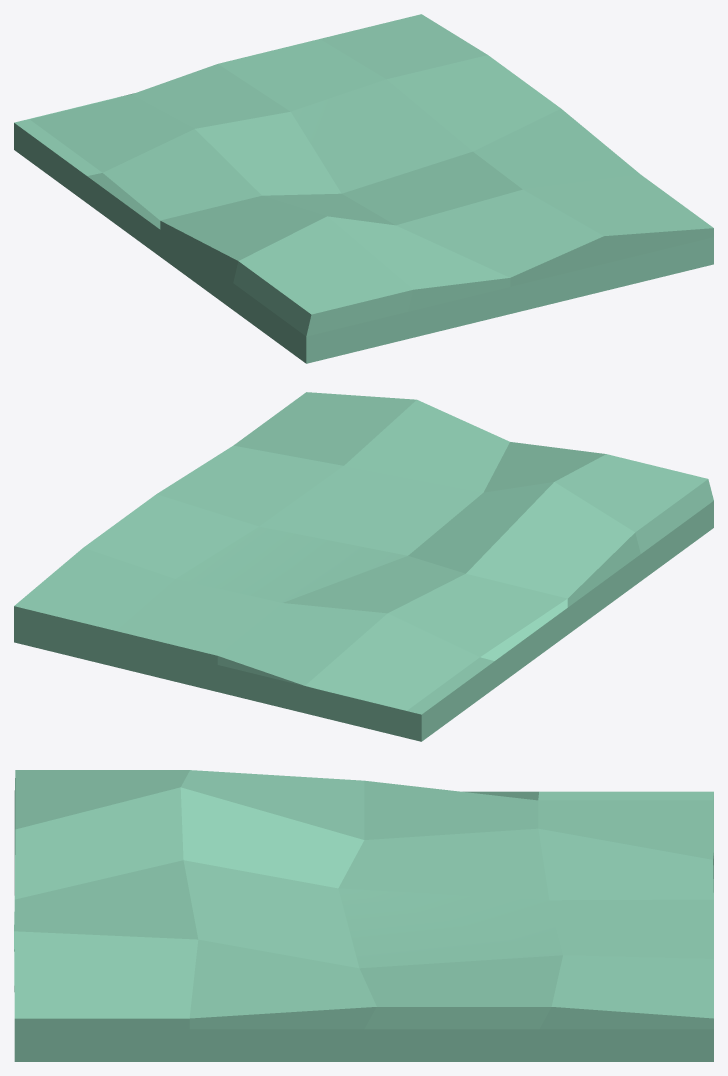
The model's file is platform2.fbx.
3 views of the same model, one above another, from view 1: azimuth 30°, elevation 25°; view 2: azimuth 150°, elevation 25°; view 3: azimuth 270°, elevation 25° (orthographic). The views are drawn at different scales.
Visible parts, largest first — view 1: Cube; view 2: Cube; view 3: Cube.
Part boxes in pixels (box(x1,y1,x2,y2)): Cube: box(14, 14, 713, 363); Cube: box(14, 392, 713, 741); Cube: box(14, 770, 713, 1061).
Bounding box in the file's own units: 1108 × 194 × 1378.
